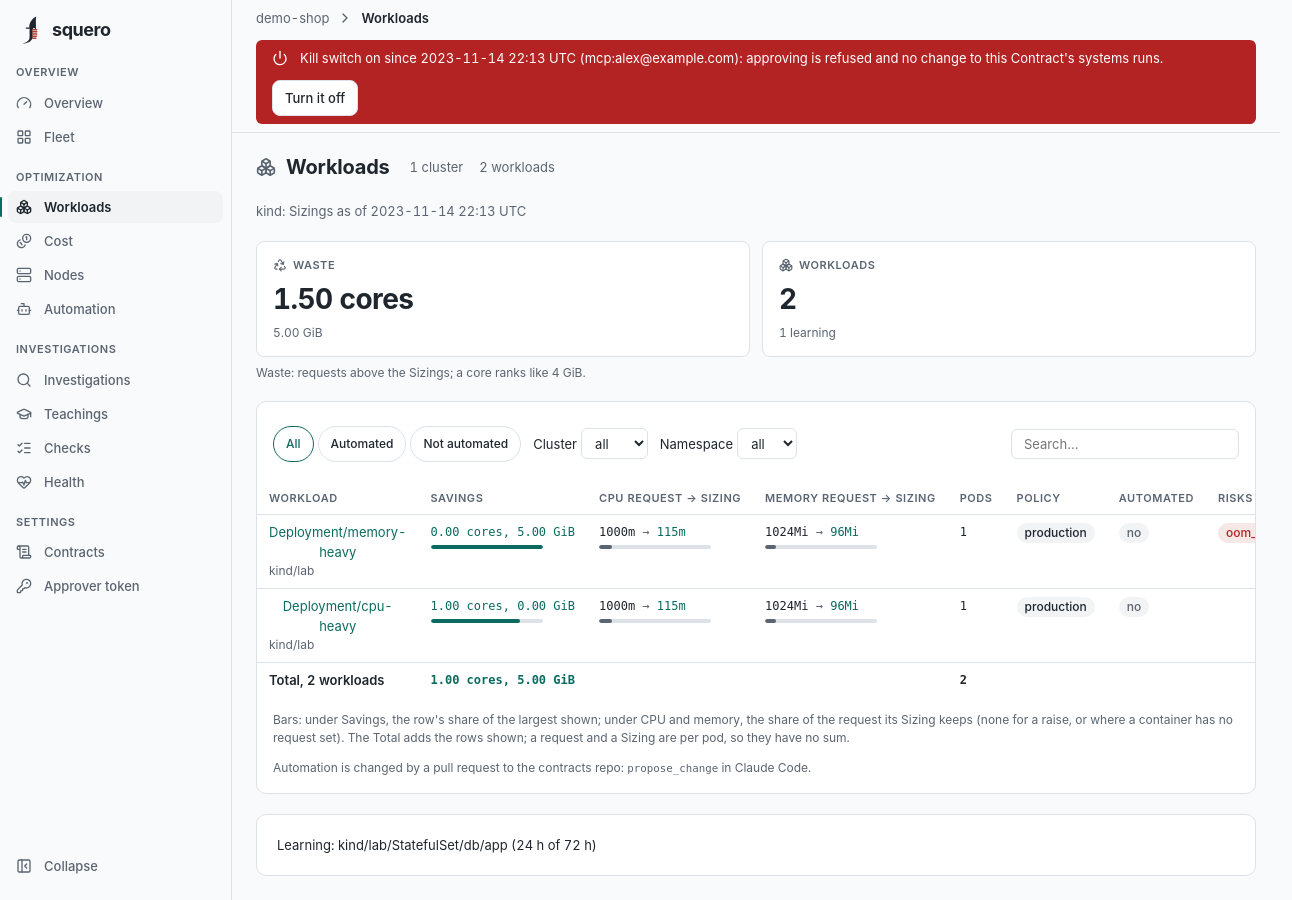
Test: the Kill switch shows who turned it on, and only here does it go off
Check: the text "Kill switch on since 2023-11-14 22:13 UTC (mcp:alex@example.com)" is shown, box 300,48 -> 1163,68
Step 1. Click the button "Turn it off" → (315, 98), box 272,80 -> 358,116
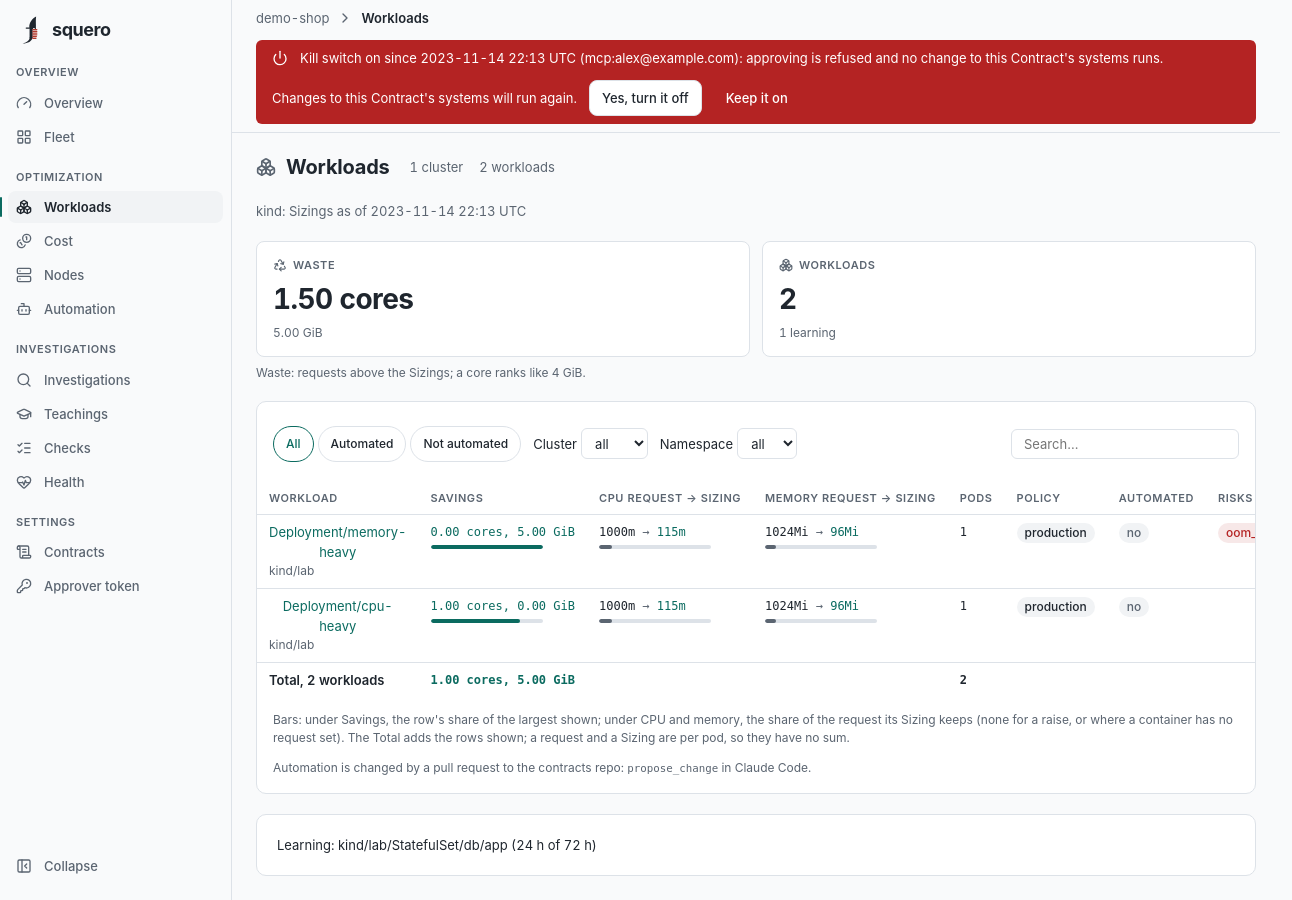
Step 2. Click the button "Keep it on" → (757, 98), box 714,80 -> 800,116
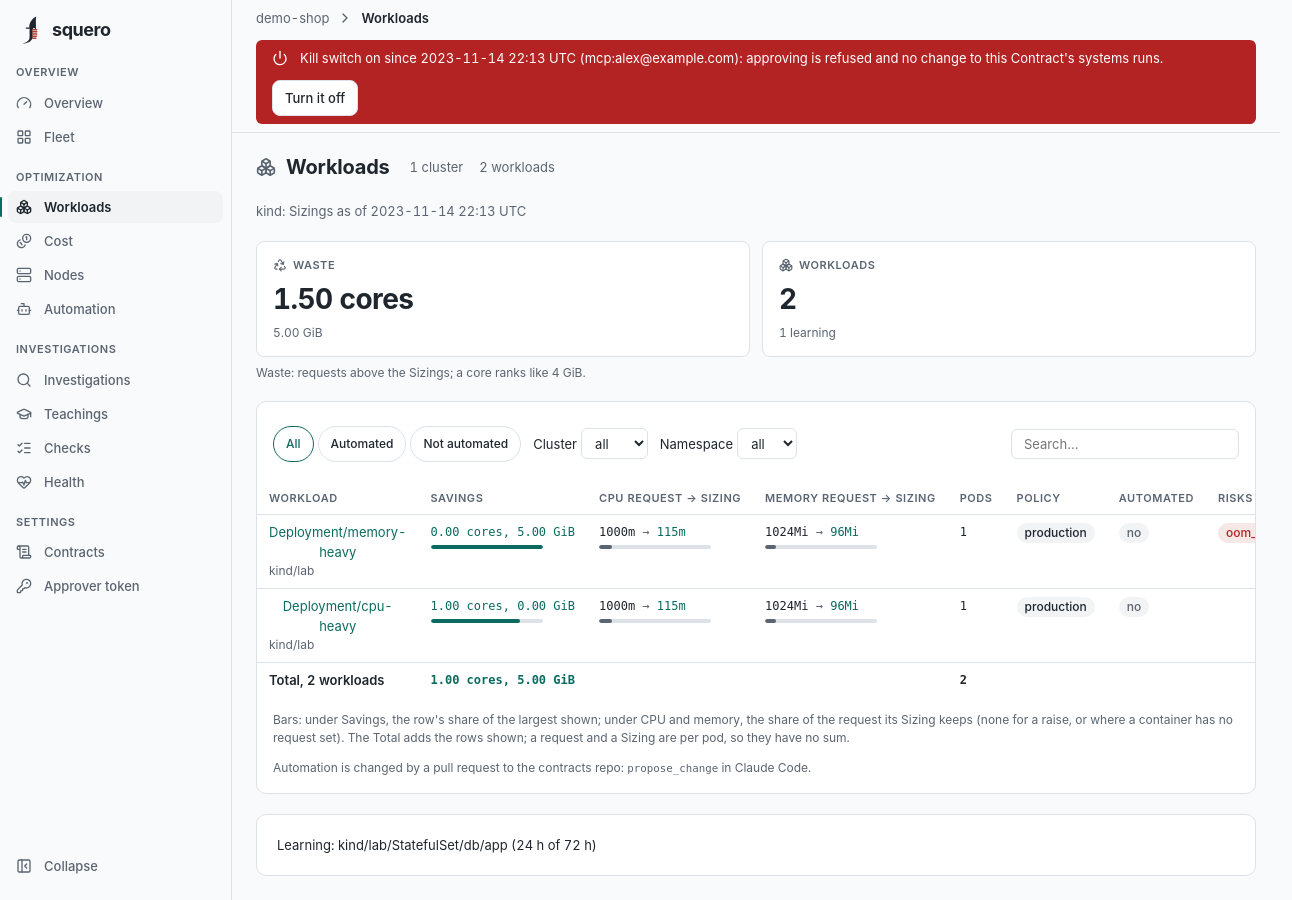
Step 3. Click the button "Turn it off" → (315, 98), box 272,80 -> 358,116
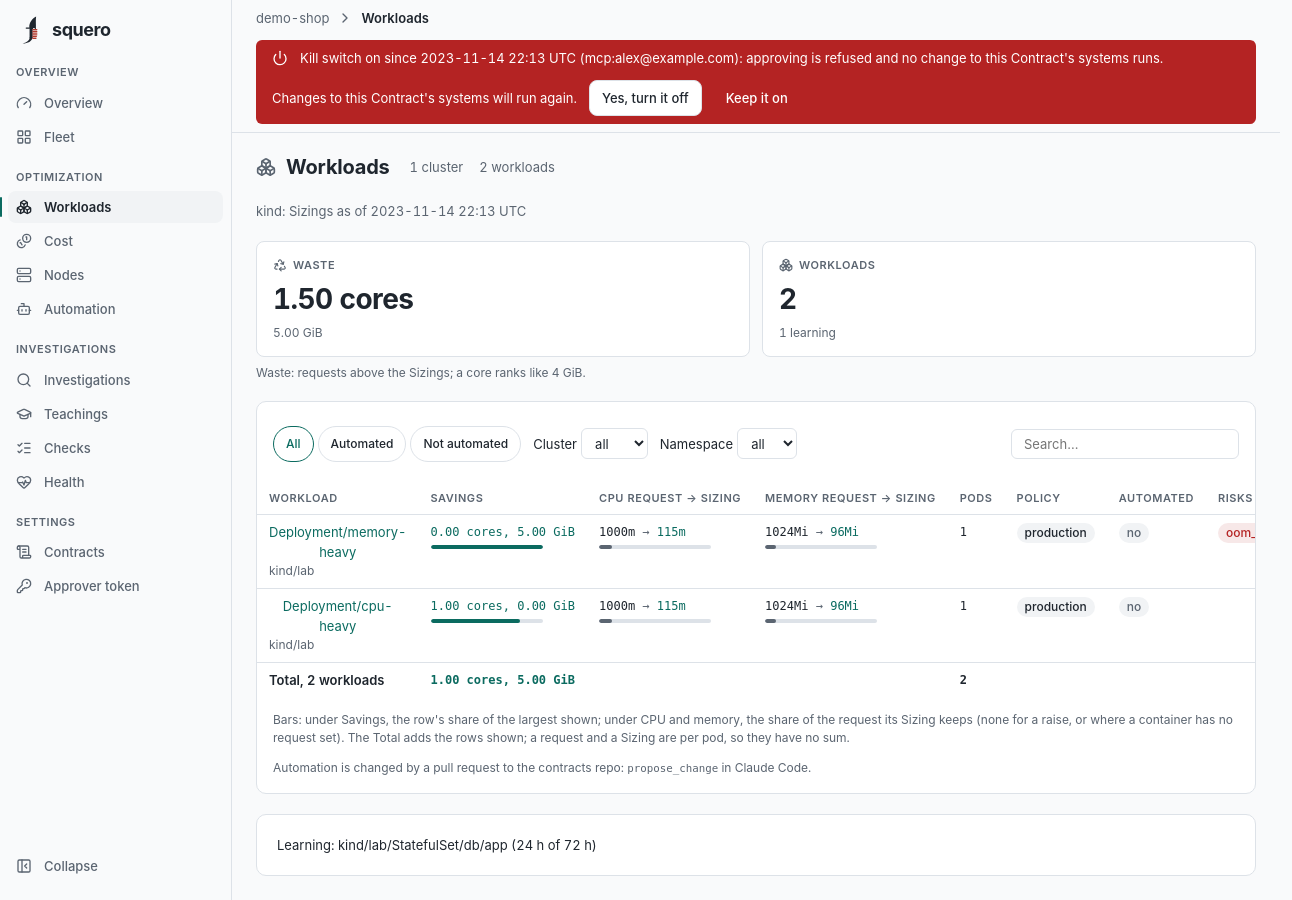
Check: the text "Changes to this Contract's systems will run again." is shown, box 272,88 -> 577,108
Step 4. Click the button "Yes, turn it off" → (645, 98), box 589,80 -> 702,116
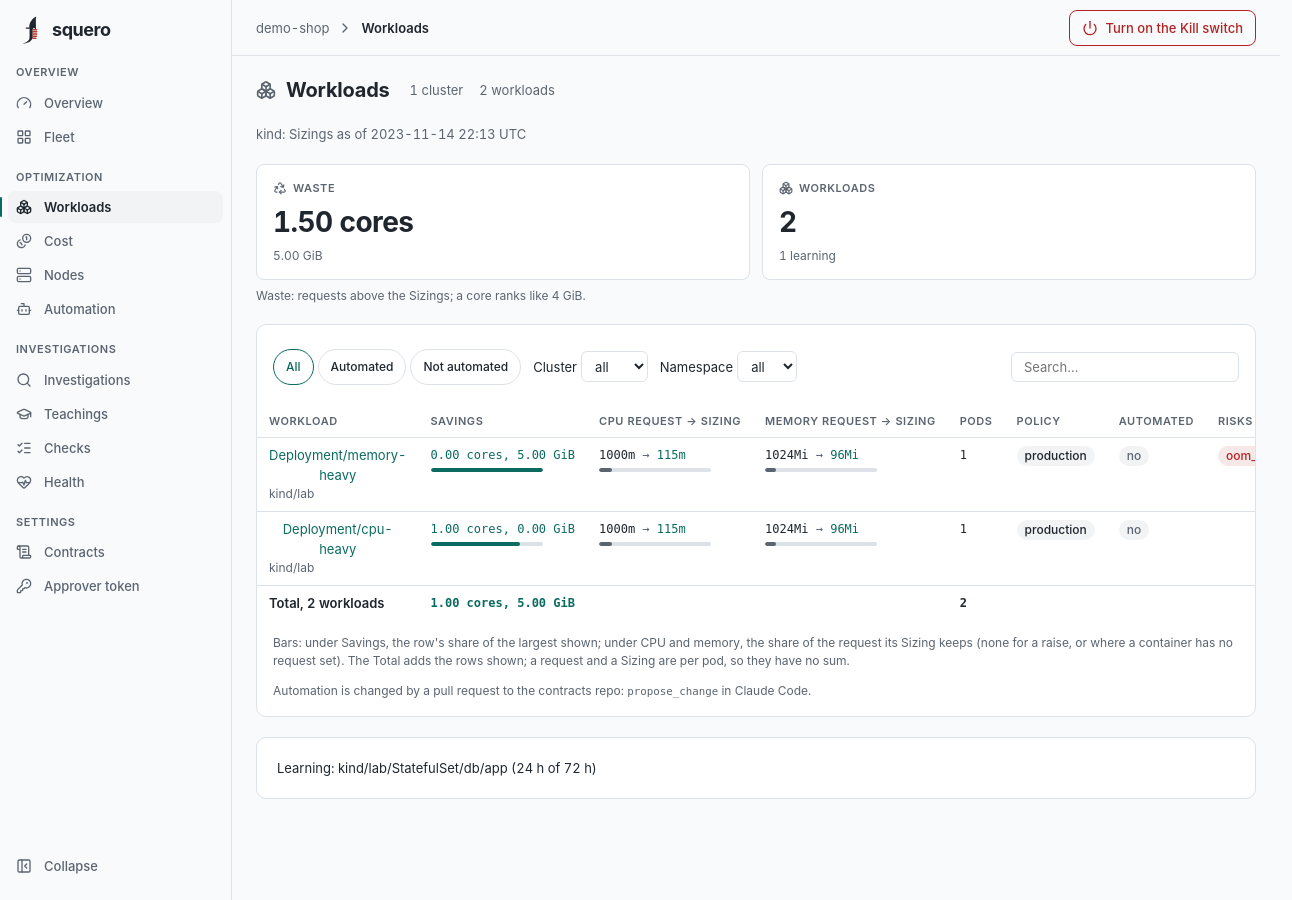
Check: the button "Turn on the Kill switch" is shown
Step 5. Click the button "Turn on the Kill switch" → (1162, 28), box 1068,10 -> 1256,46
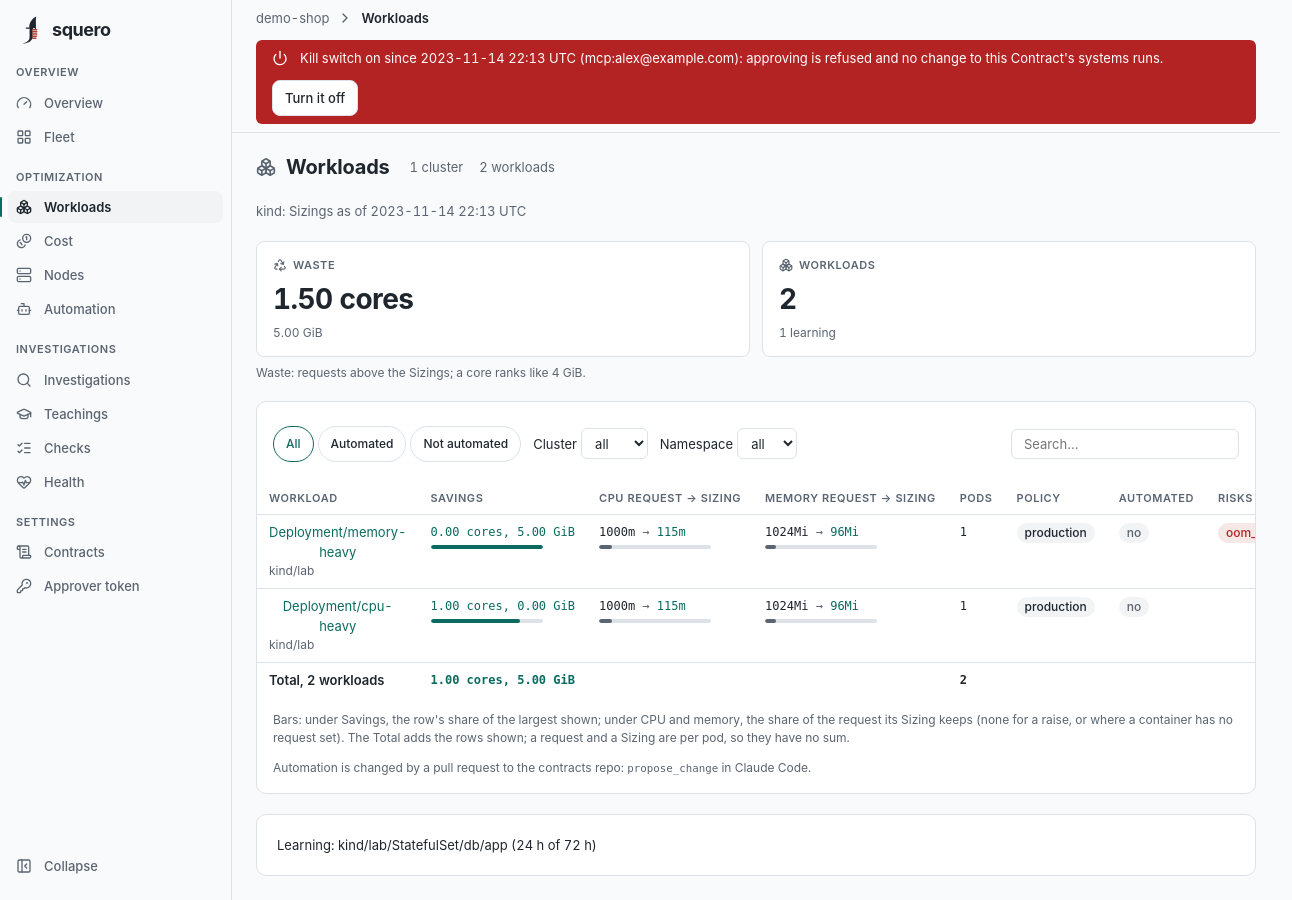
Check: the button "Turn it off" is shown, box 272,80 -> 358,116
